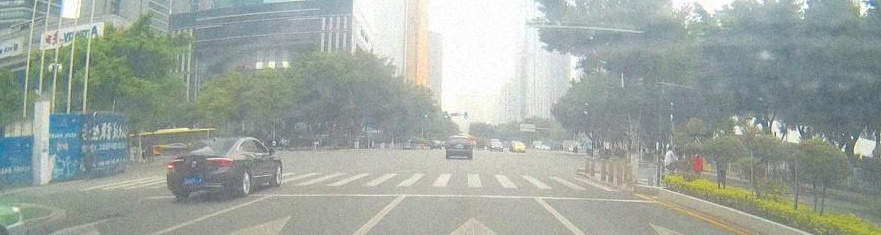L_light: (168, 159, 185, 169)
R_light: (206, 158, 233, 167)
T_light: (208, 141, 219, 144)
day-left: (166, 137, 242, 198)
